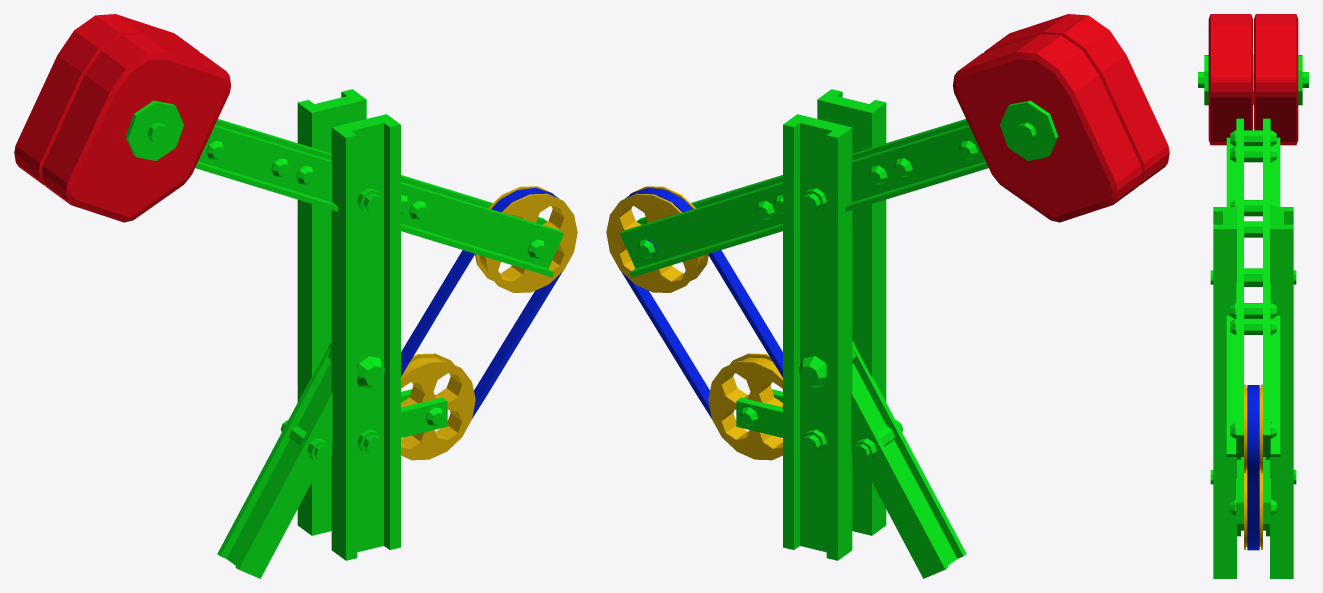
The model's file is Thingamabob.fbx.
The picture shows the model from 3 angles, left to right: view 1: azimuth 30°, elevation 25°; view 2: azimuth 150°, elevation 25°; view 3: azimuth 270°, elevation 25°; orthographic projection. The views are drawn at different scales.
Visible parts, largest first — view 1: Thingamabob 3; view 2: Thingamabob 3; view 3: Thingamabob 3.
Part boxes in pixels (x1=…): Thingamabob 3: x1=14, y1=14, x2=577, y2=578; Thingamabob 3: x1=606, y1=14, x2=1169, y2=578; Thingamabob 3: x1=1198, y1=14, x2=1308, y2=578.
Size of the model in its own units: 538 by 549 by 117.
